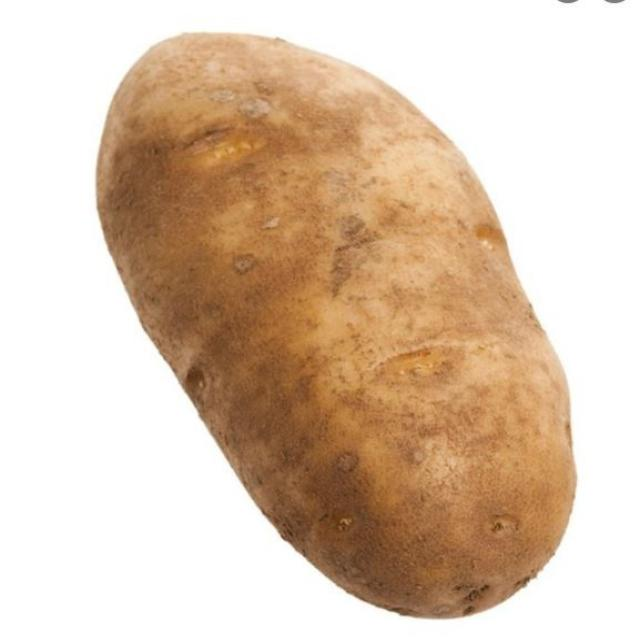potato: (95, 31, 578, 619)
